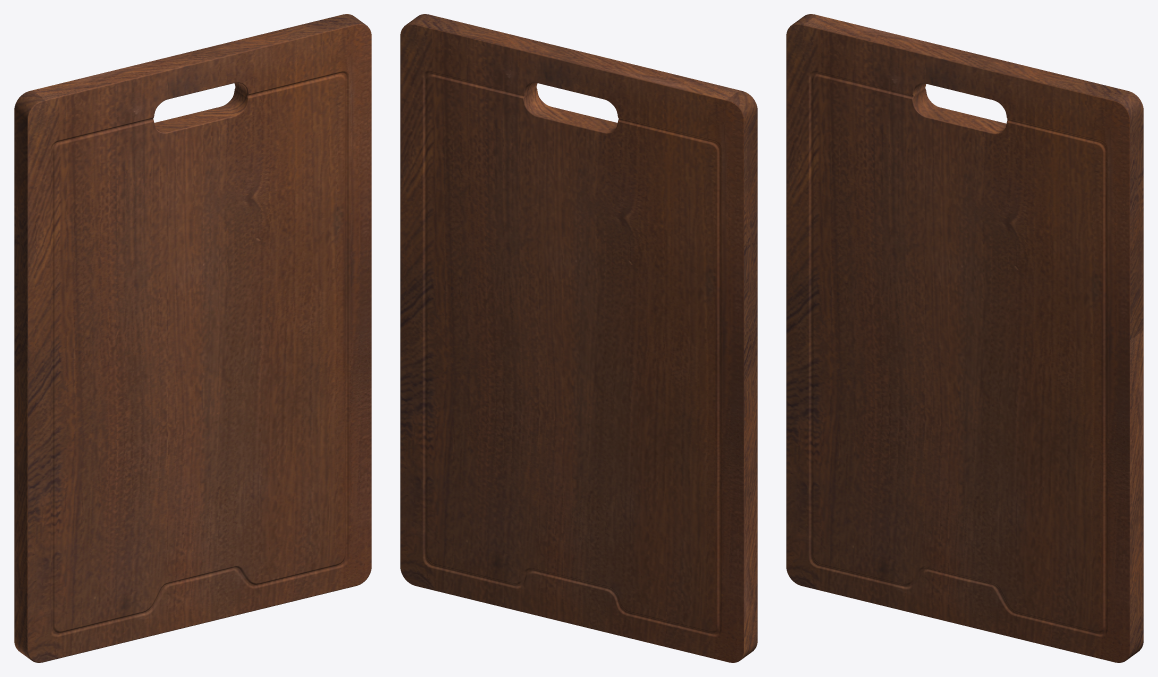
File: cutting_board.glb
3 renders of one model, left to right at view 1: azimuth 30°, elevation 25°; view 2: azimuth 150°, elevation 25°; view 3: azimuth 330°, elevation 25°, orthographic.
Parts seen in each view (by area): view 1: cutting_board; view 2: cutting_board; view 3: cutting_board.
Boxes of the visible parts, left/top/right/bottom form: cutting_board: left=14, top=14, right=371, bottom=662; cutting_board: left=400, top=14, right=757, bottom=662; cutting_board: left=786, top=14, right=1143, bottom=662.
Bounding box in the file's own units: 0.2834 × 0.4418 × 0.0196.
Materials: 1 (1 with a texture image).
